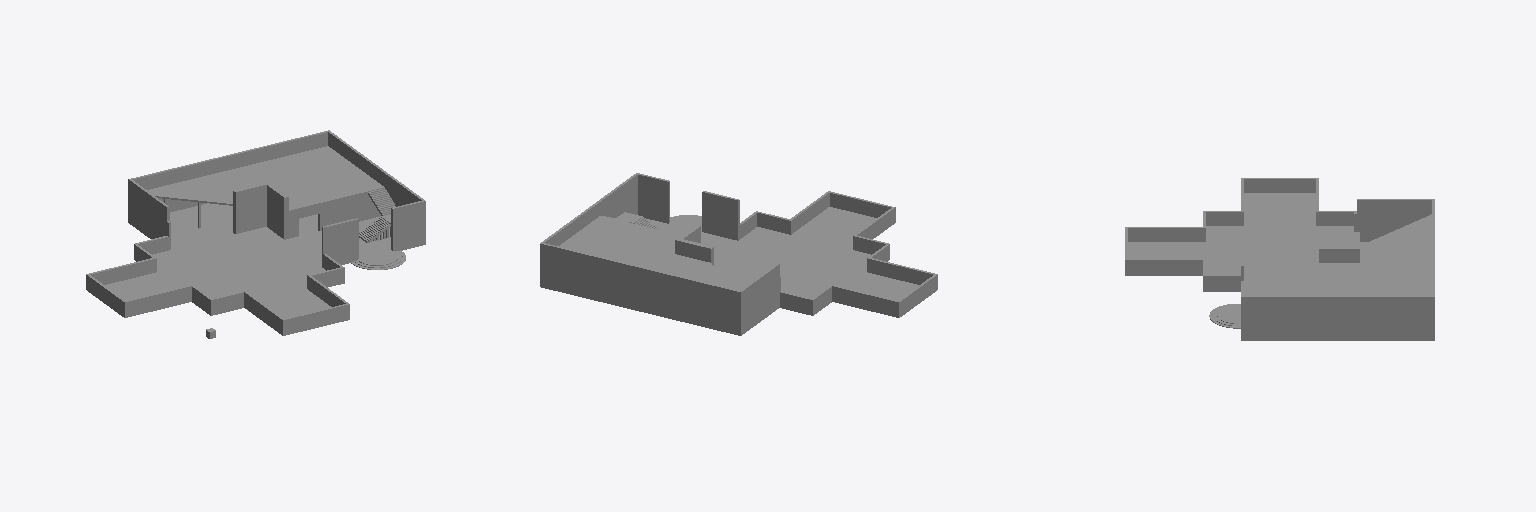
The model's file is Newcomers_Guild_Attempt_3.obj.
3 renders of one model, left to right at view 1: azimuth 30°, elevation 25°; view 2: azimuth 150°, elevation 25°; view 3: azimuth 270°, elevation 25°, orthographic.
Parts seen in each view (by area): view 1: SketchUp; view 2: SketchUp; view 3: SketchUp.
Boxes of the visible parts, x1,y1,x2,y2 form: SketchUp: [86, 130, 425, 335]; SketchUp: [540, 173, 937, 335]; SketchUp: [1125, 178, 1434, 340].
Size of the model in its own units: 90 by 18.5 by 80.